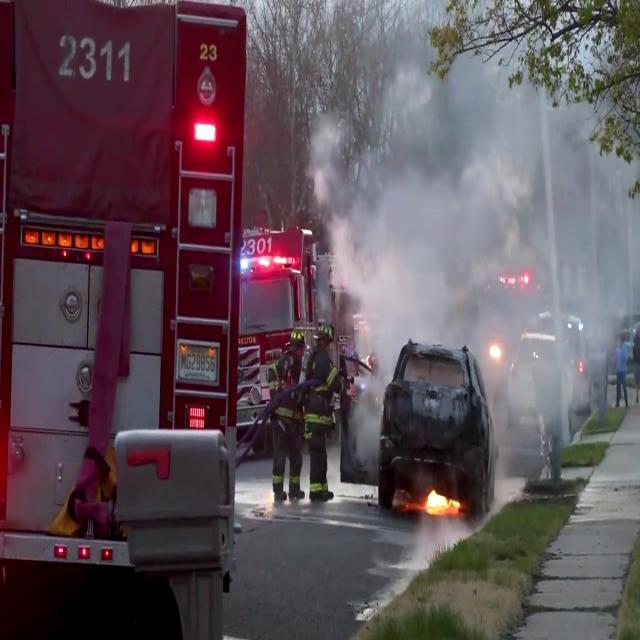Fire: (419, 482, 459, 522)
Smoke: (314, 23, 640, 373)
